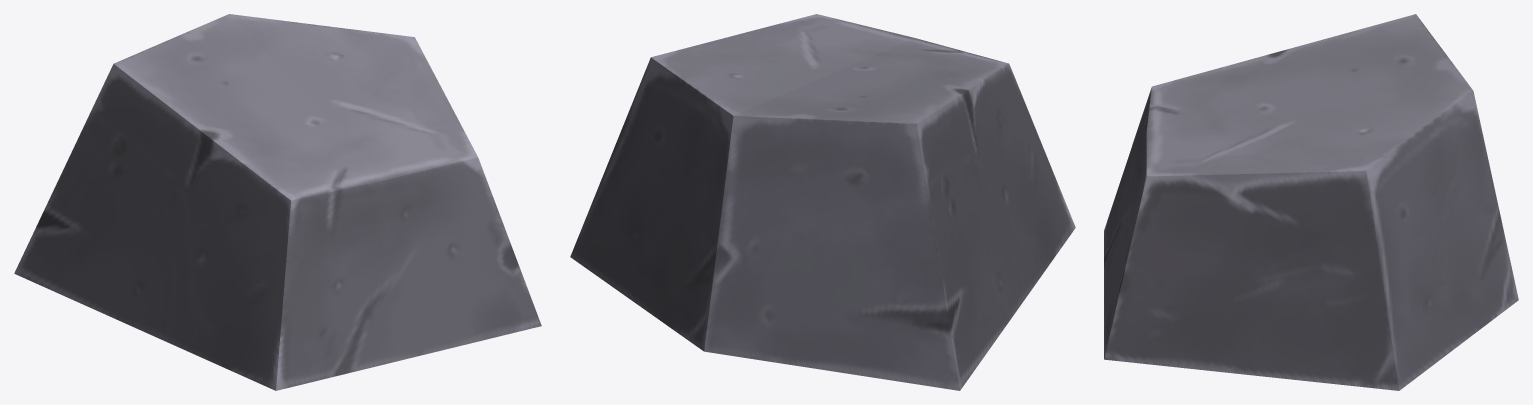
The model's file is Stone3.FBX.
3 renders of one model, left to right at view 1: azimuth 30°, elevation 25°; view 2: azimuth 150°, elevation 25°; view 3: azimuth 270°, elevation 25°, orthographic. The views are drawn at different scales.
Visible parts, largest first — view 1: Object103; view 2: Object103; view 3: Object103.
Boxes of the visible parts, x1,y1,x2,y2 form: Object103: [14, 14, 541, 390]; Object103: [570, 14, 1075, 390]; Object103: [1104, 14, 1518, 390].
Bounding box in the file's own units: 59.02 × 29.72 × 52.33.
